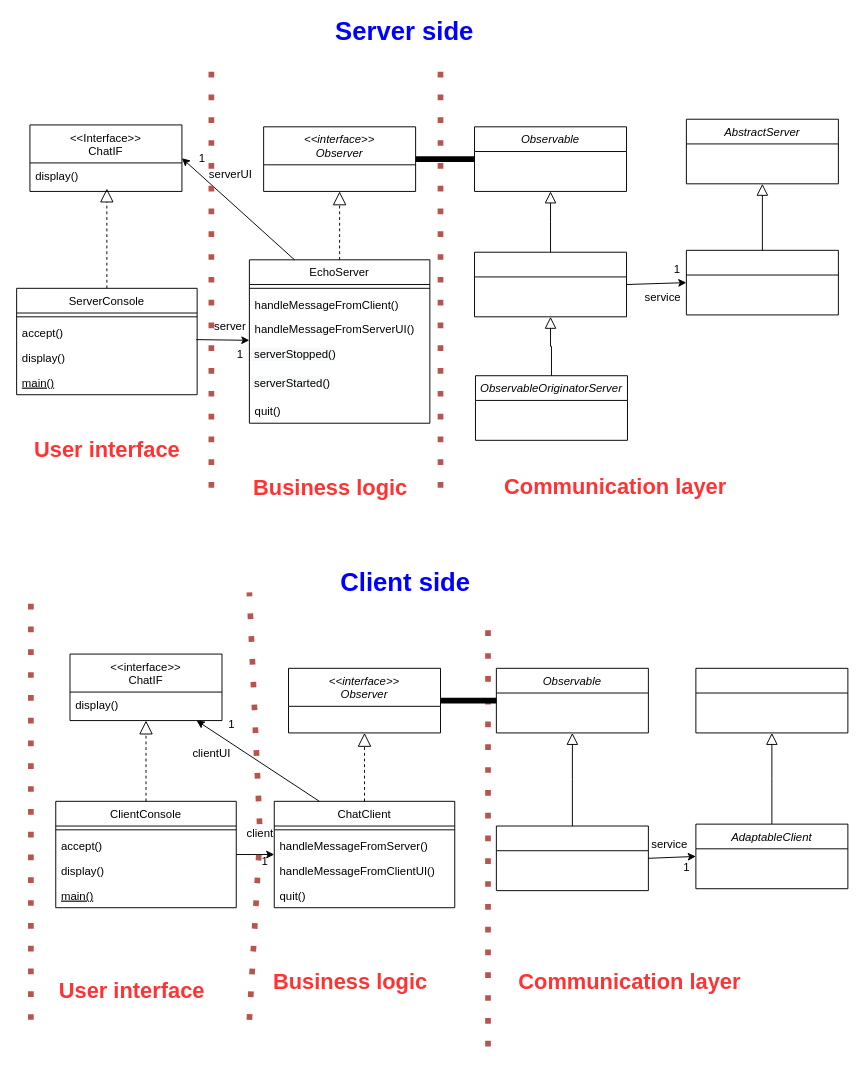
Image size: 865x1066. Some labels were removed from this diagram. The centre of each missing label's shape, as x and y in pixels:
"AbstractClient" belongs at (x=771, y=700).
"AdaptableServer" belongs at (x=761, y=282).
"ObservableClient" belongs at (x=571, y=858).
"ObservableServer" belongs at (x=550, y=284).
